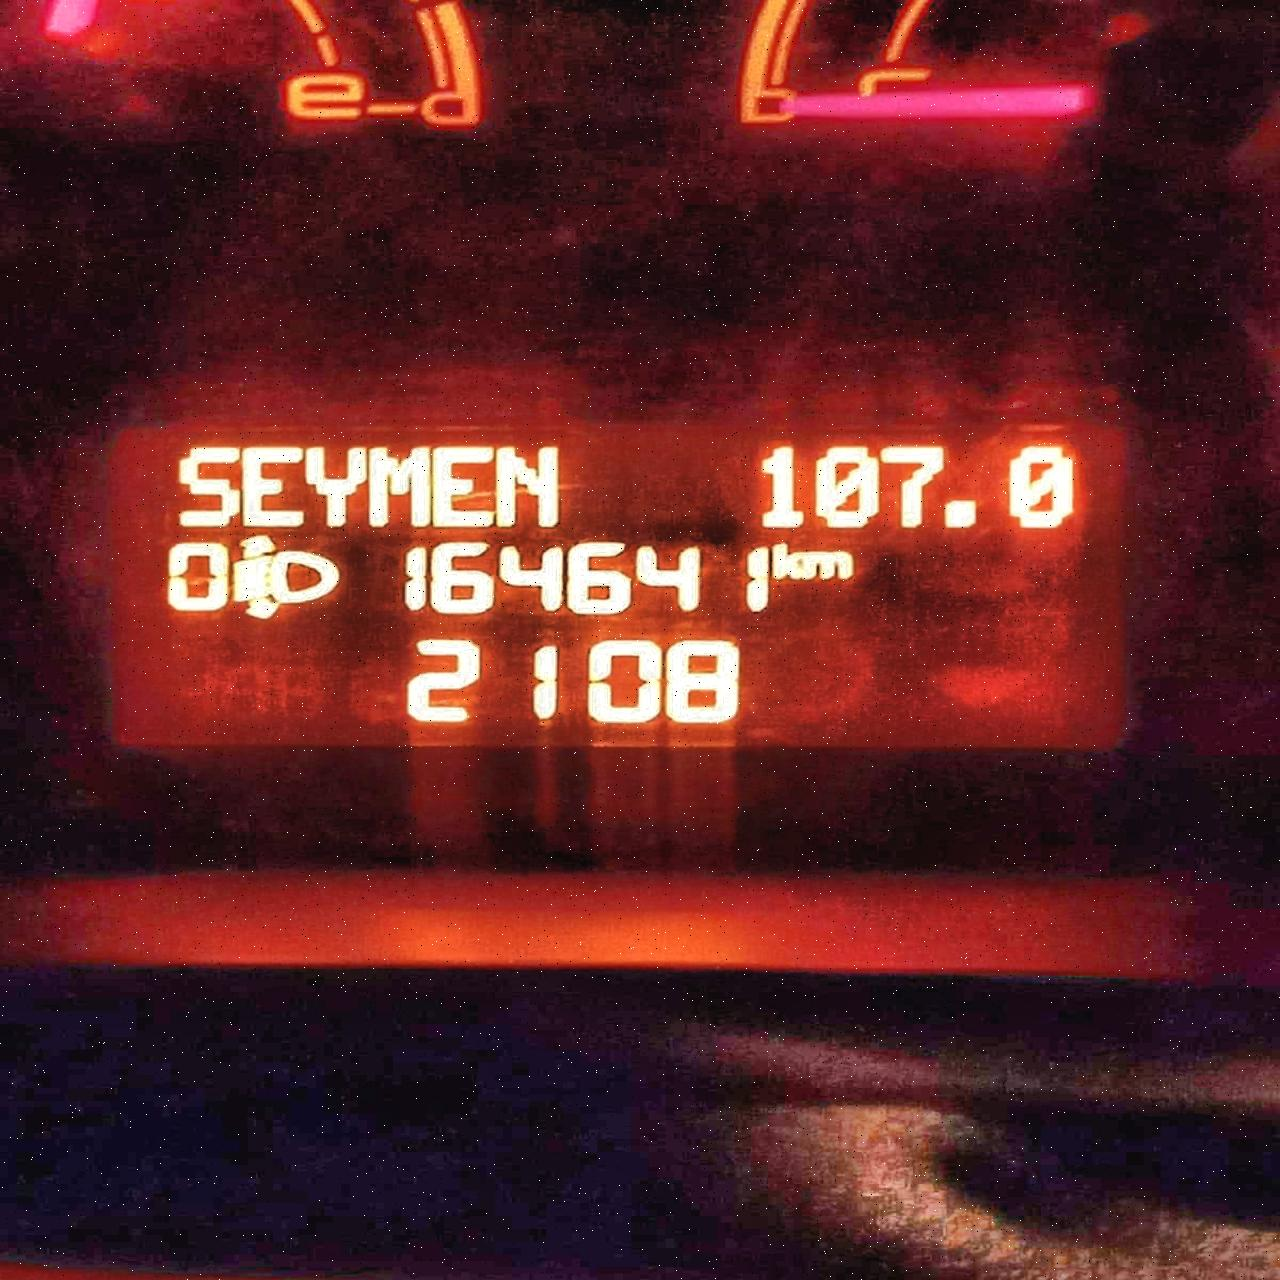-: (941, 493, 983, 536)
0: (580, 634, 663, 729), (1006, 444, 1085, 533), (812, 442, 883, 533), (158, 538, 230, 614)
1: (747, 444, 803, 535), (527, 636, 565, 726), (393, 540, 428, 619), (742, 543, 774, 618)
2: (406, 636, 479, 724)
4: (634, 538, 707, 615), (492, 542, 564, 612)
6: (567, 536, 633, 618), (433, 540, 493, 620)
7: (881, 442, 946, 526)
8: (663, 634, 743, 727)
X: (493, 441, 564, 529), (176, 443, 239, 530), (368, 442, 430, 529), (434, 442, 495, 529), (241, 442, 302, 529), (305, 442, 365, 527), (802, 549, 857, 581), (769, 540, 802, 581)
odometer: (98, 414, 1133, 753)
